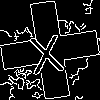X: (25, 25, 66, 75)
